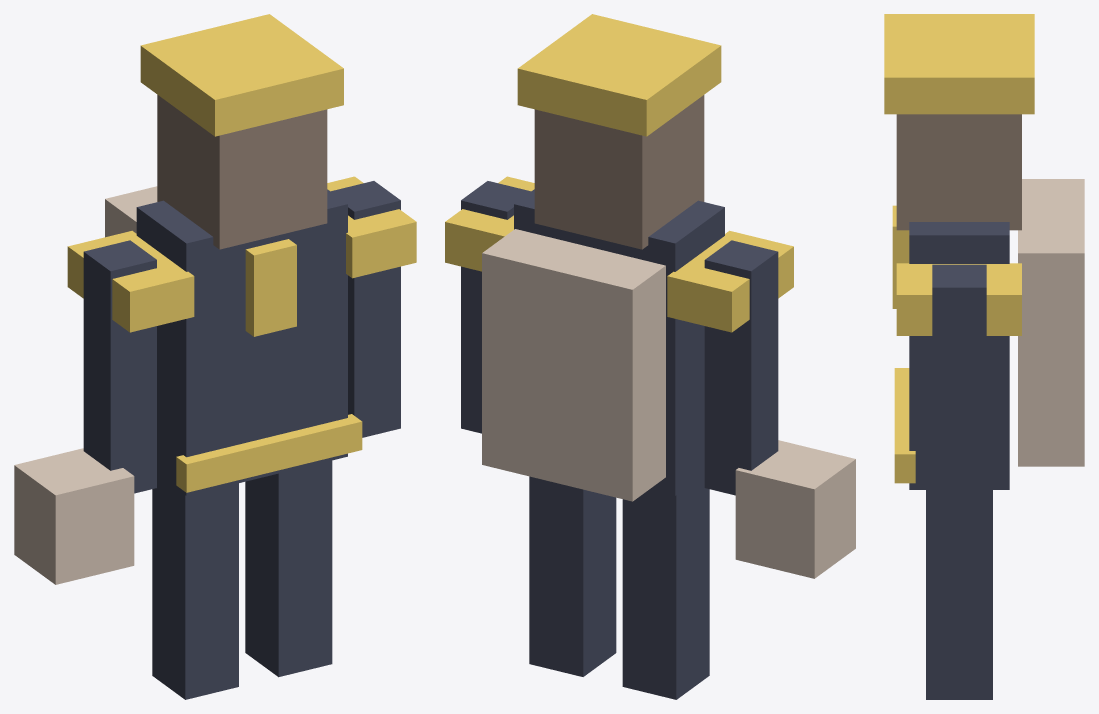
Rendered from 01_calder_glassroot_responder_from_static.glb.
3 renders of one model, left to right at view 1: azimuth 30°, elevation 25°; view 2: azimuth 150°, elevation 25°; view 3: azimuth 270°, elevation 25°, orthographic.
Parts seen in each view (by area): view 1: Calder Glassroot, Responder from Static; view 2: Calder Glassroot, Responder from Static; view 3: Calder Glassroot, Responder from Static.
Part boxes in pixels (x1=…): Calder Glassroot, Responder from Static: x1=14, y1=14, x2=416, y2=699; Calder Glassroot, Responder from Static: x1=445, y1=14, x2=855, y2=699; Calder Glassroot, Responder from Static: x1=884, y1=14, x2=1084, y2=699.
Size of the model in its own units: 0.9739 by 1.6 by 0.4698.
